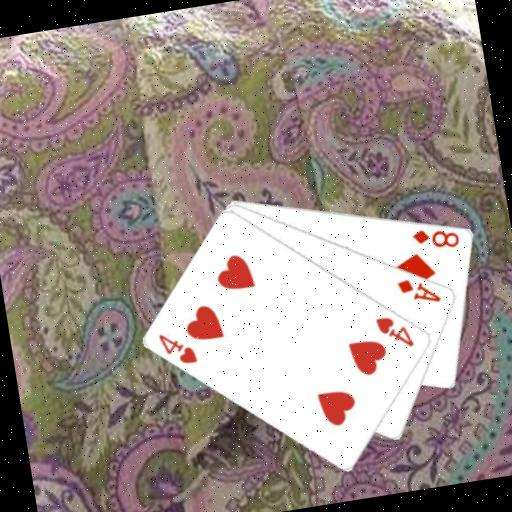4H: (371, 309, 417, 354), (154, 325, 200, 369)
8D: (408, 220, 462, 255)
AD: (393, 270, 443, 309)
